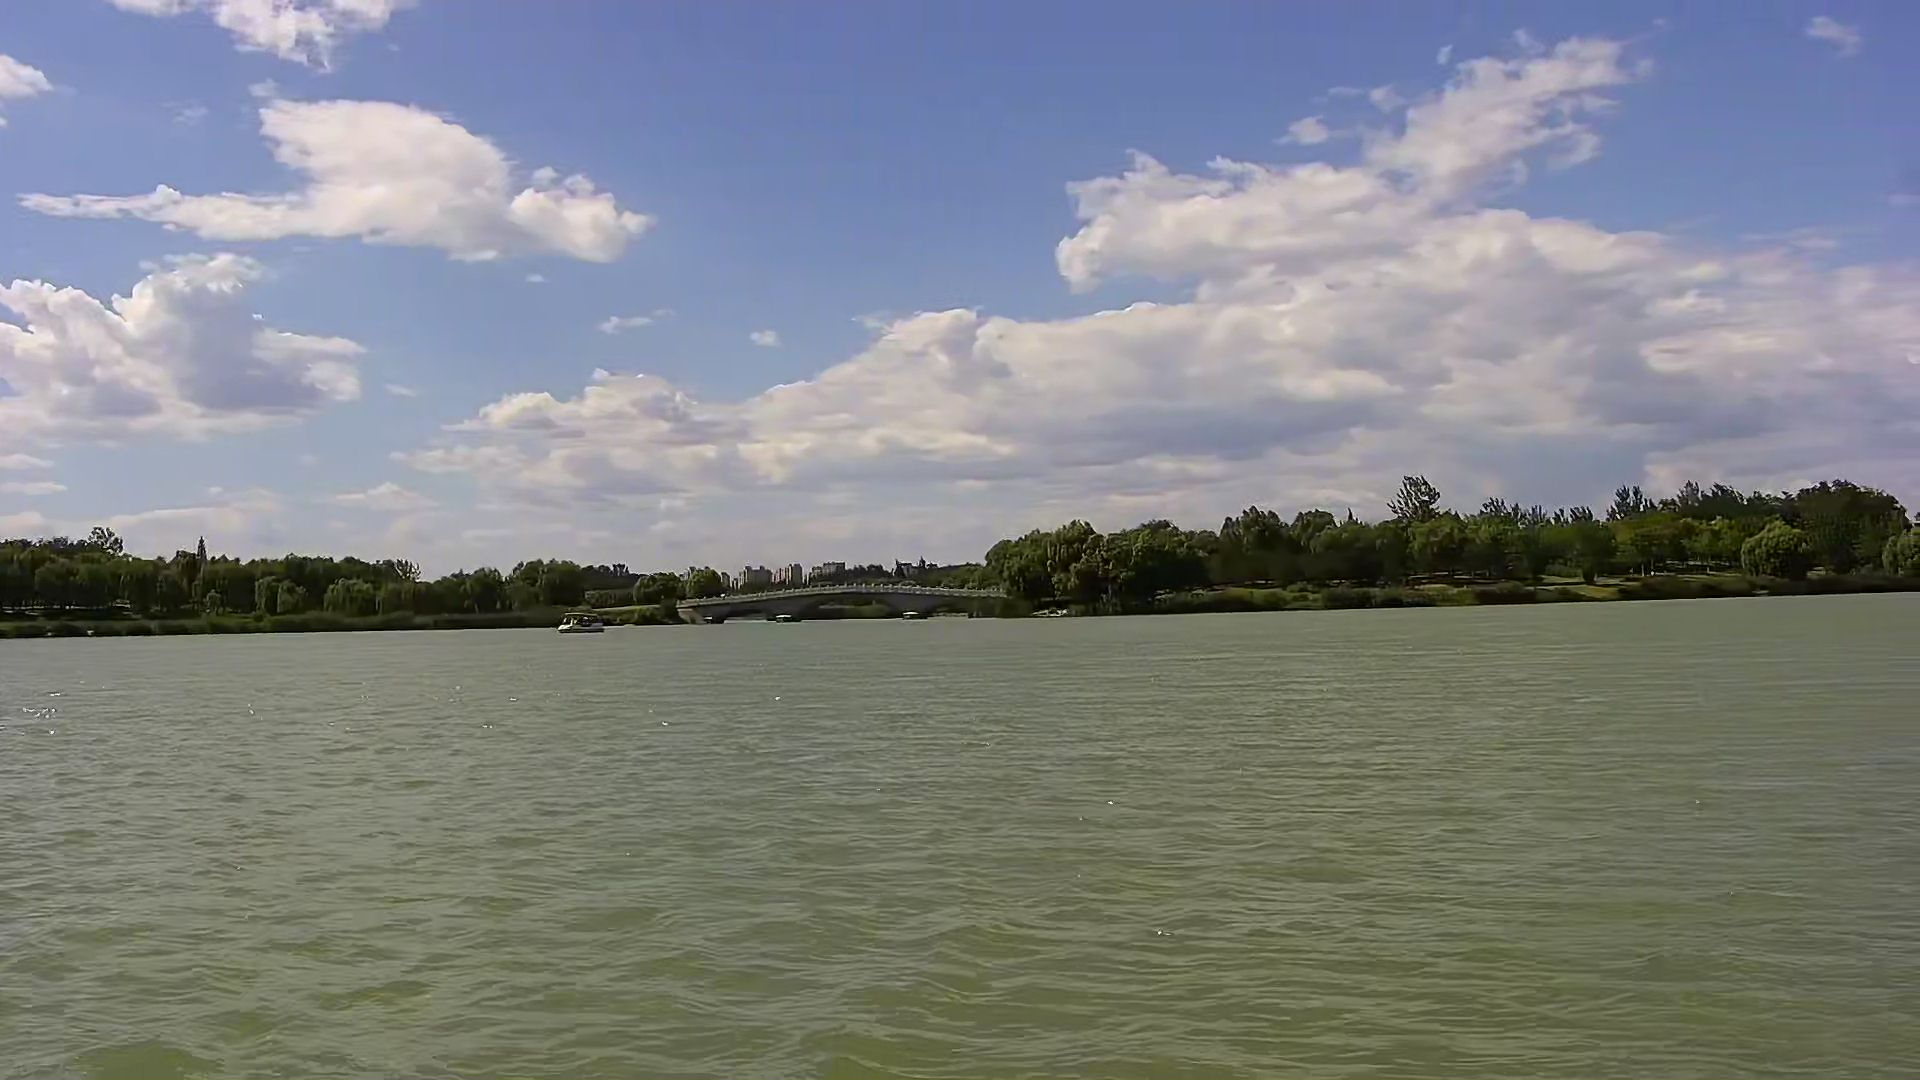boat: (553, 607, 607, 636)
bridge: (683, 583, 1007, 621)
